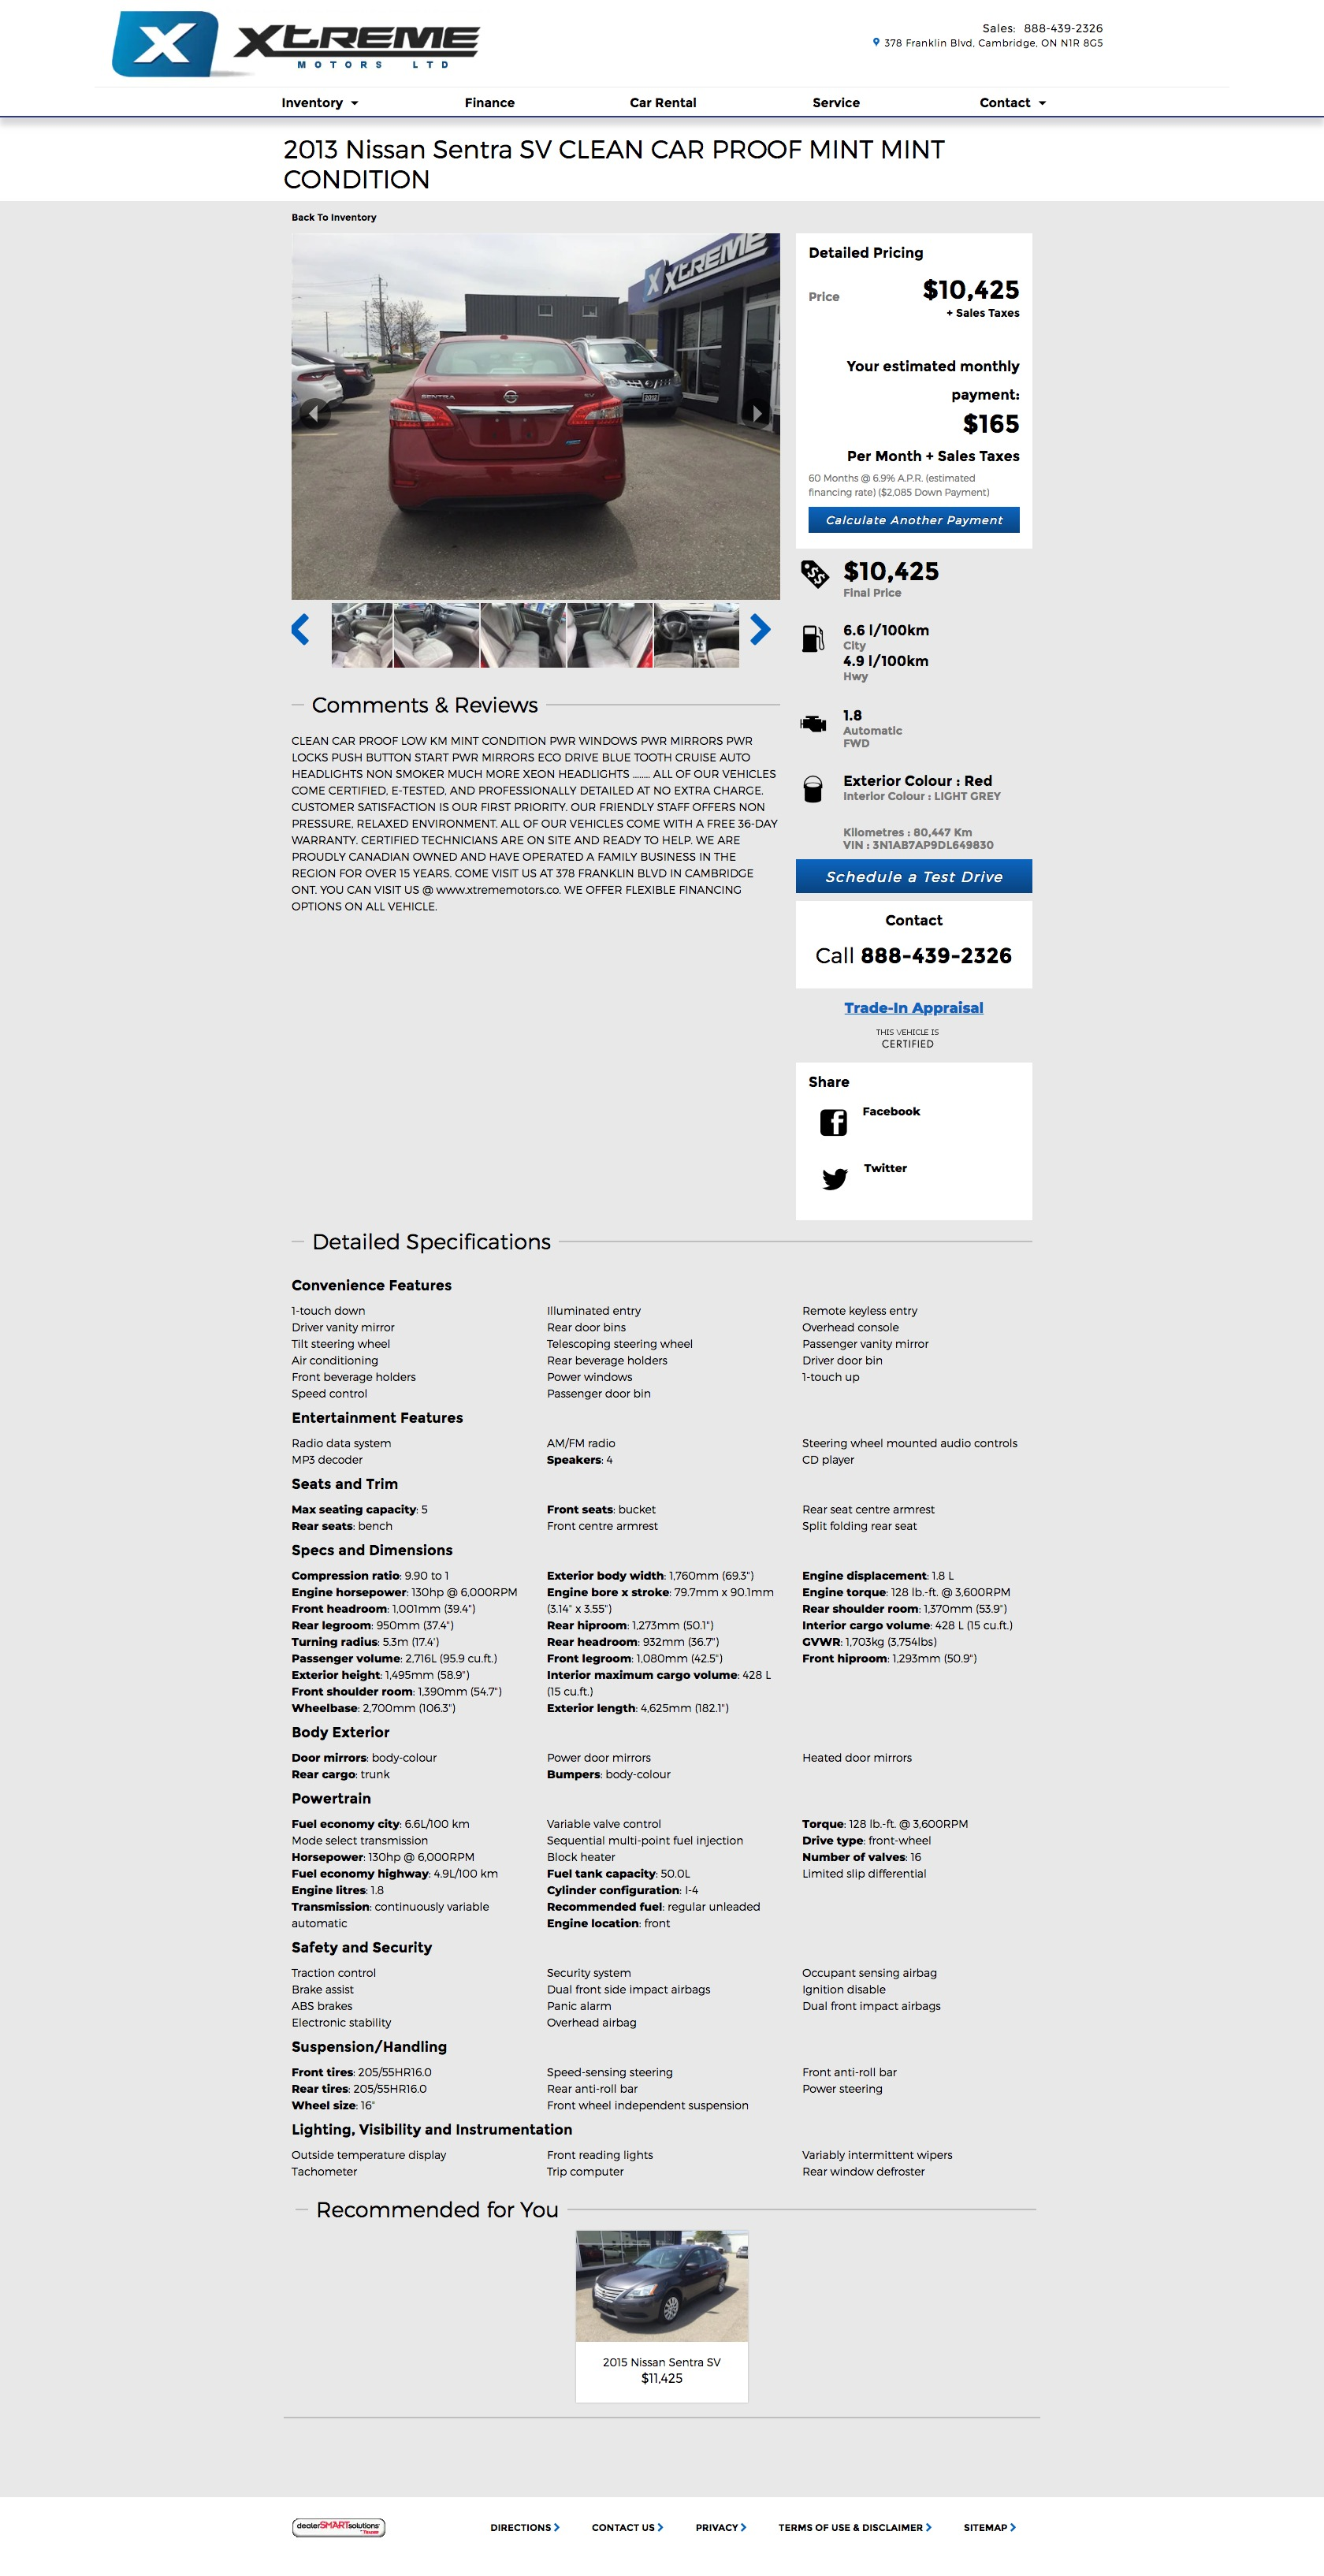car: (750, 614, 772, 645)
